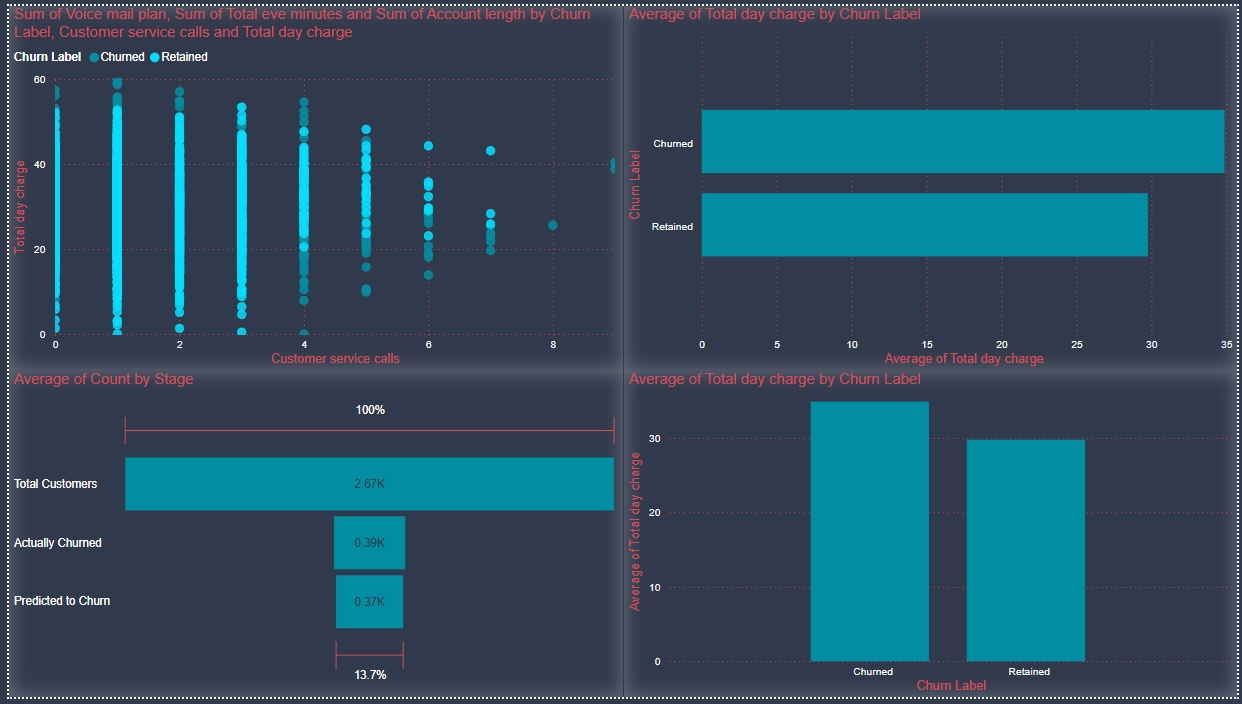

What the dashboard file says about the page in this screenshot:
{"tool":"powerbi","page":{"name":"Churn Behavior & Prediction Funnel","canvas":[1280,720],"ordinal":1},"visuals":[{"type":"scatterChart","fields":{"X":["churn_with_predictions.Customer service calls"],"Y":["churn_with_predictions.Total day charge"],"Series":["churn_with_predictions.Churn Label"]},"box":[0,0,640.3,379.7],"z":0},{"type":"funnel","fields":{"Category":["ChurnFunnel.Stage"],"Y":["Avg(ChurnFunnel.Count)"]},"box":[0,379.7,640.3,340.3],"z":1},{"type":"barChart","fields":{"Y":["Avg(churn_with_predictions.Total day charge)"],"Category":["churn_with_predictions.Churn Label"]},"box":[640.3,0,639.4,379.7],"z":2},{"type":"columnChart","fields":{"Category":["churn_with_predictions.Churn Label"],"Y":["Avg(churn_with_predictions.Total day charge)"]},"box":[640.3,379.7,638.5,340.3],"z":3}]}

Visuals, with their boxes in screenshot pixels (x1, y1, x2, y2), scaled from the page's 1280x720 canvas onto the 1242x704 screenshot:
scatterChart - churn_with_predictions.Customer service calls x churn_with_predictions.Total day charge: box=[0, 0, 621, 371]
funnel - ChurnFunnel.Stage x Avg(ChurnFunnel.Count): box=[0, 371, 621, 703]
barChart - Avg(churn_with_predictions.Total day charge) x churn_with_predictions.Churn Label: box=[621, 0, 1241, 371]
columnChart - churn_with_predictions.Churn Label x Avg(churn_with_predictions.Total day charge): box=[621, 371, 1241, 703]
